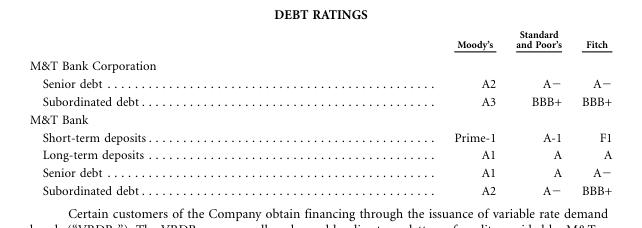table: (28, 28, 611, 197)
table column: (28, 28, 302, 197), (302, 28, 505, 197), (505, 28, 571, 197), (571, 28, 611, 197)
table column header: (28, 28, 611, 54)
table projected row header: (28, 54, 611, 74), (28, 110, 611, 128)
table row: (28, 28, 611, 54), (28, 54, 611, 74), (28, 74, 611, 92), (28, 92, 611, 110), (28, 110, 611, 128), (28, 145, 611, 163), (28, 163, 611, 181), (28, 128, 611, 145), (28, 181, 611, 197)
